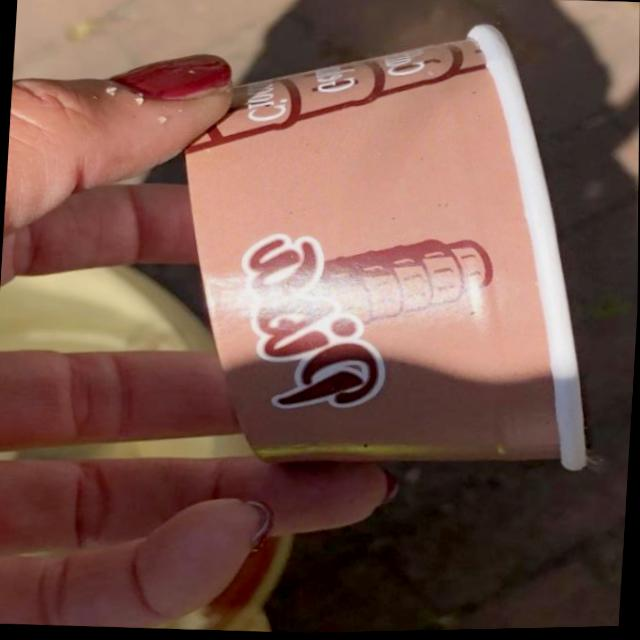Paper: (157, 4, 621, 484)
